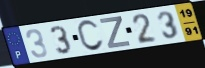2: (132, 13, 159, 45)
3: (156, 10, 180, 41), (49, 24, 73, 55), (26, 28, 49, 59)
C: (76, 19, 106, 53)
Z: (99, 15, 133, 50)
